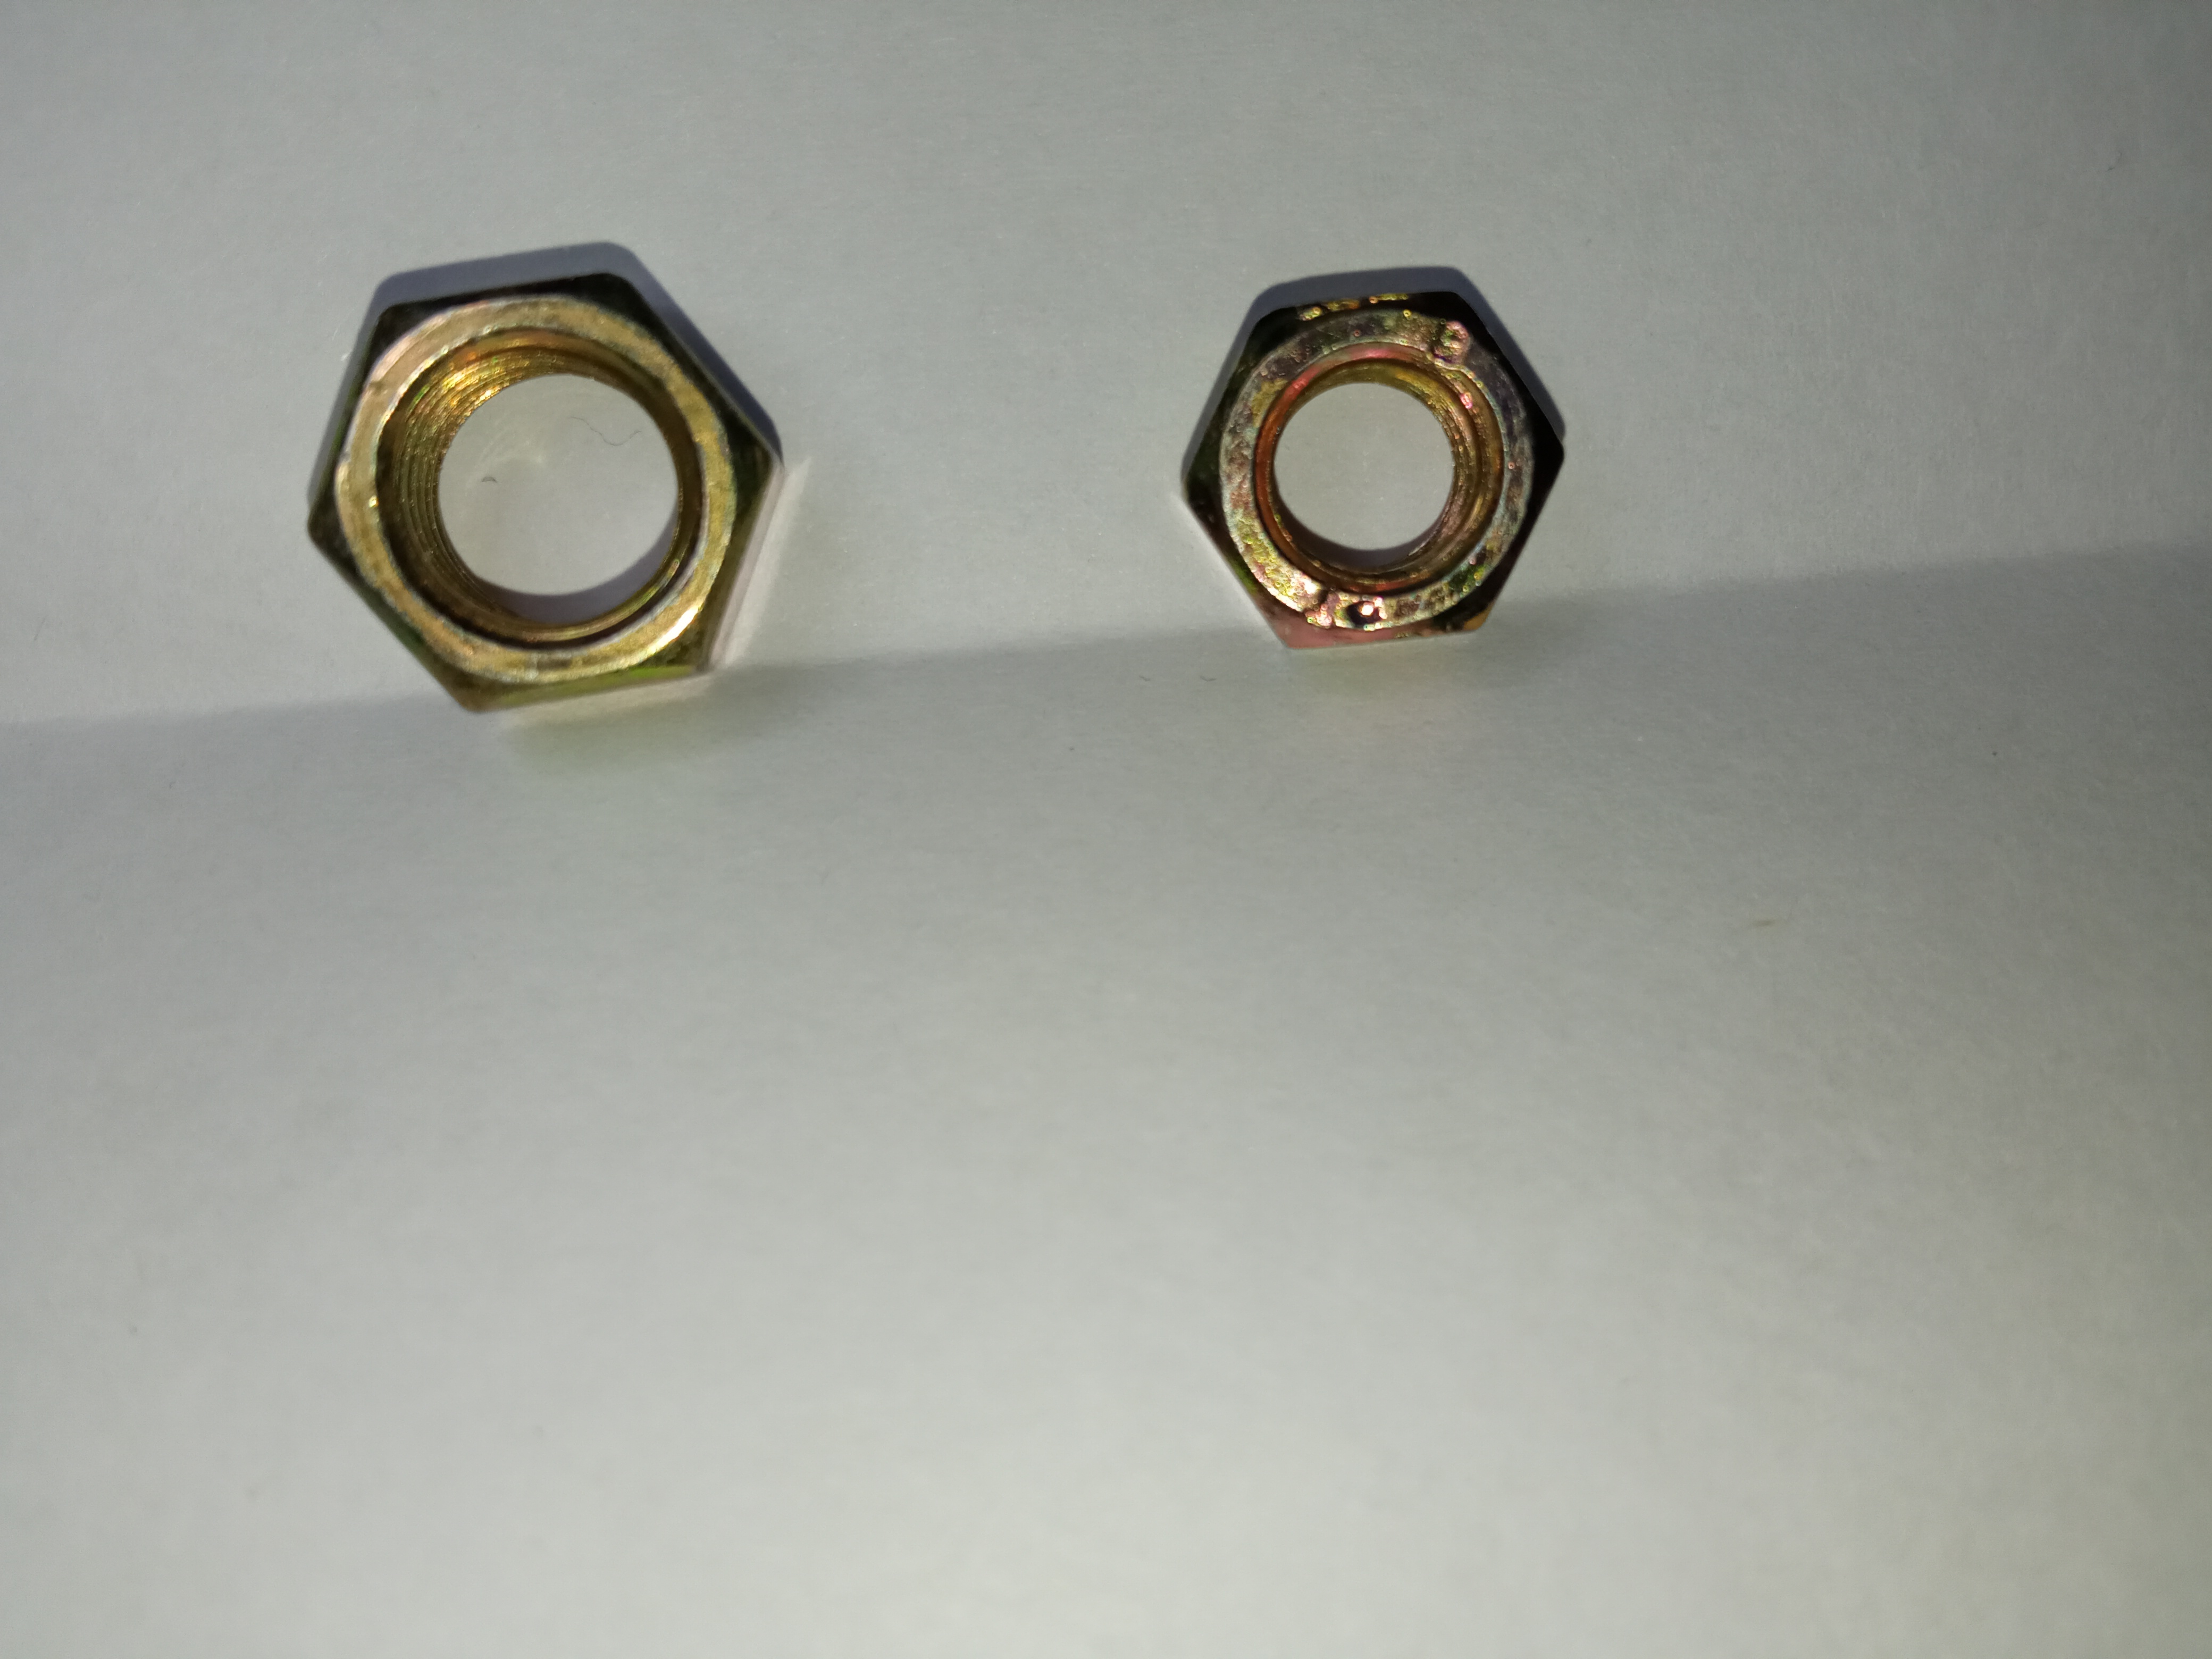m10: (310, 275, 782, 688)
m8: (1184, 296, 1568, 633)
